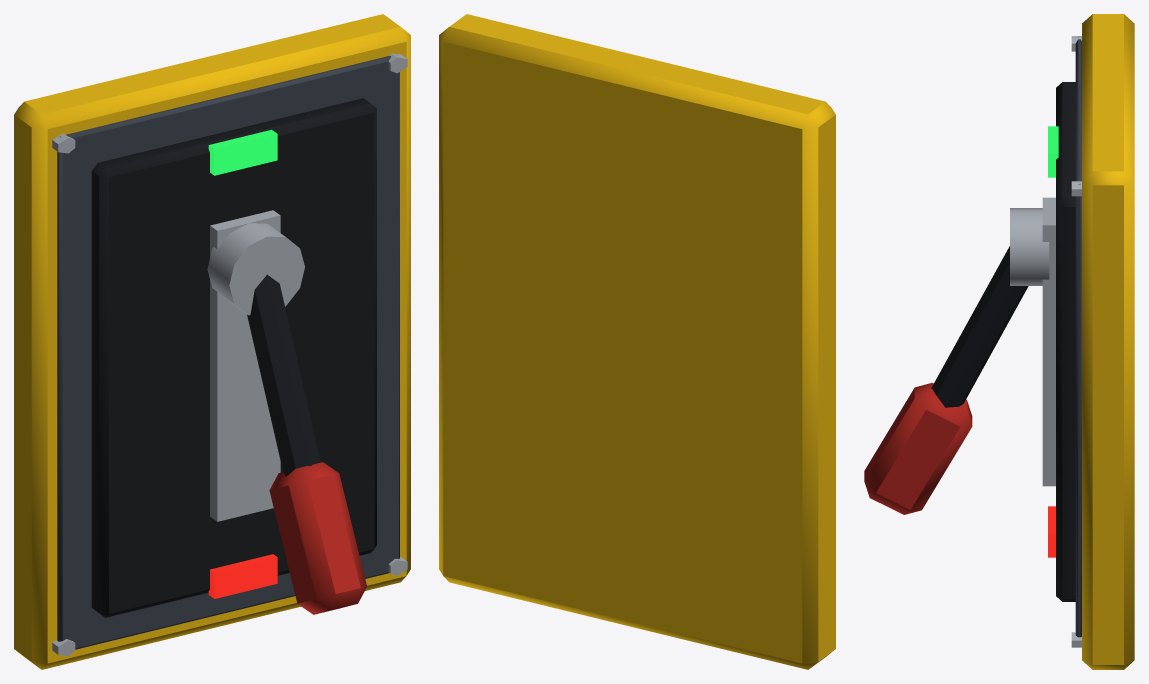
File: controlpanel_power_isolator.glb
3 views of the same model, side by side, from view 1: azimuth 30°, elevation 25°; view 2: azimuth 150°, elevation 25°; view 3: azimuth 270°, elevation 25° (orthographic). The views are drawn at different scales.
Visible parts, largest first — view 1: controlpanel_power_isolator; view 2: controlpanel_power_isolator; view 3: controlpanel_power_isolator.
Part boxes in pixels (<box>): controlpanel_power_isolator: <box>14,14,410,669</box>; controlpanel_power_isolator: <box>439,14,835,669</box>; controlpanel_power_isolator: <box>864,14,1134,669</box>.
Bounding box in the file's own units: 0.3 × 0.42 × 0.2061.
